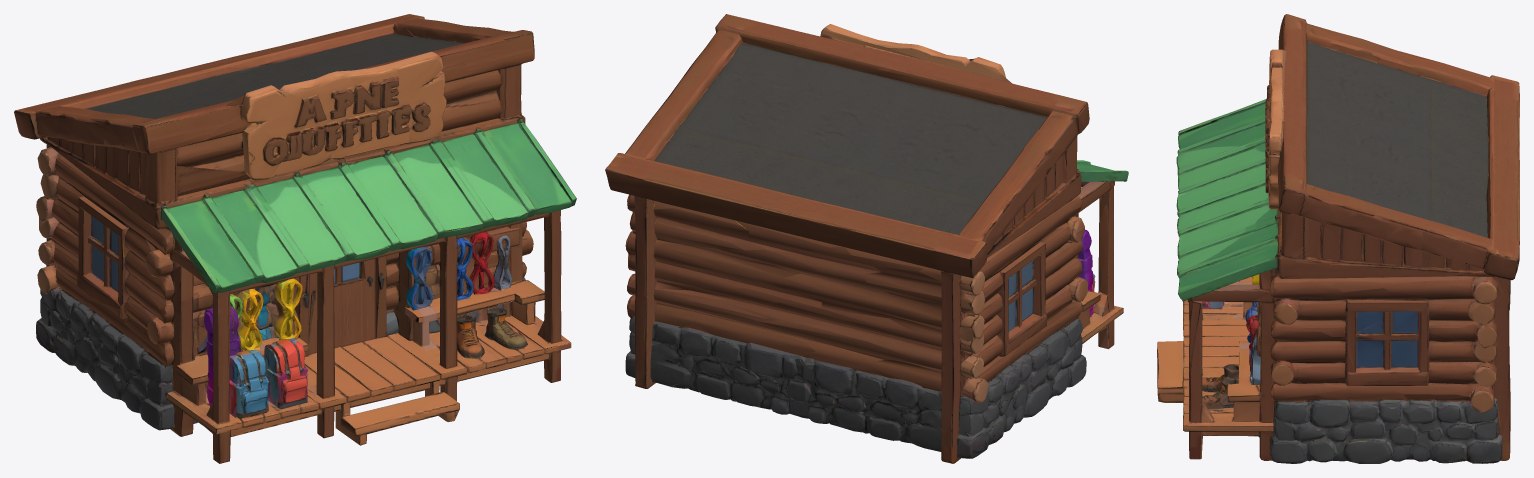
Rendered from gearshop.glb.
The picture shows the model from 3 angles, left to right: view 1: azimuth 30°, elevation 25°; view 2: azimuth 150°, elevation 25°; view 3: azimuth 270°, elevation 25°; orthographic projection. The views are drawn at different scales.
Size of the model in its own units: 1.9 by 1.46 by 1.63.
1 material, 1 textured.
